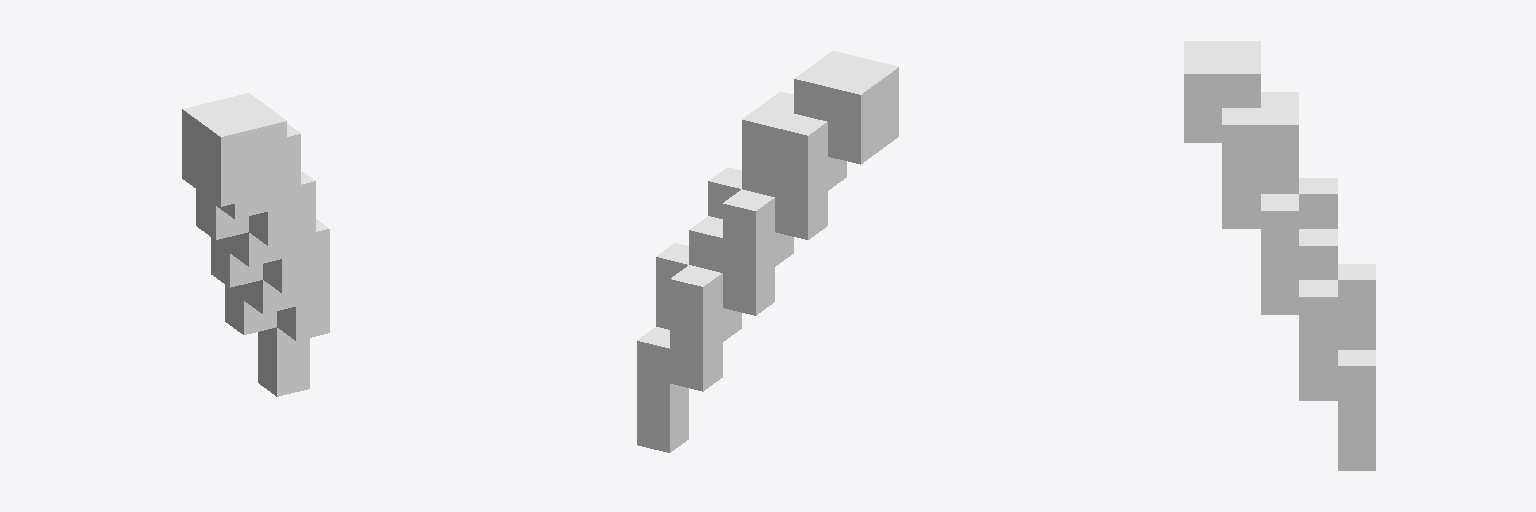
File: Enemy1-6.obj
The picture shows the model from 3 angles: view 1: azimuth 30°, elevation 25°; view 2: azimuth 150°, elevation 25°; view 3: azimuth 270°, elevation 25°; orthographic projection.
Visible parts, largest first — view 1: object 1; view 2: object 1; view 3: object 1.
Boxes of the visible parts, x1,y1,x2,y2 form: object 1: [182, 93, 329, 396]; object 1: [637, 51, 898, 452]; object 1: [1184, 41, 1375, 470].
Bounding box in the file's own units: 0.5 × 1 × 0.5.